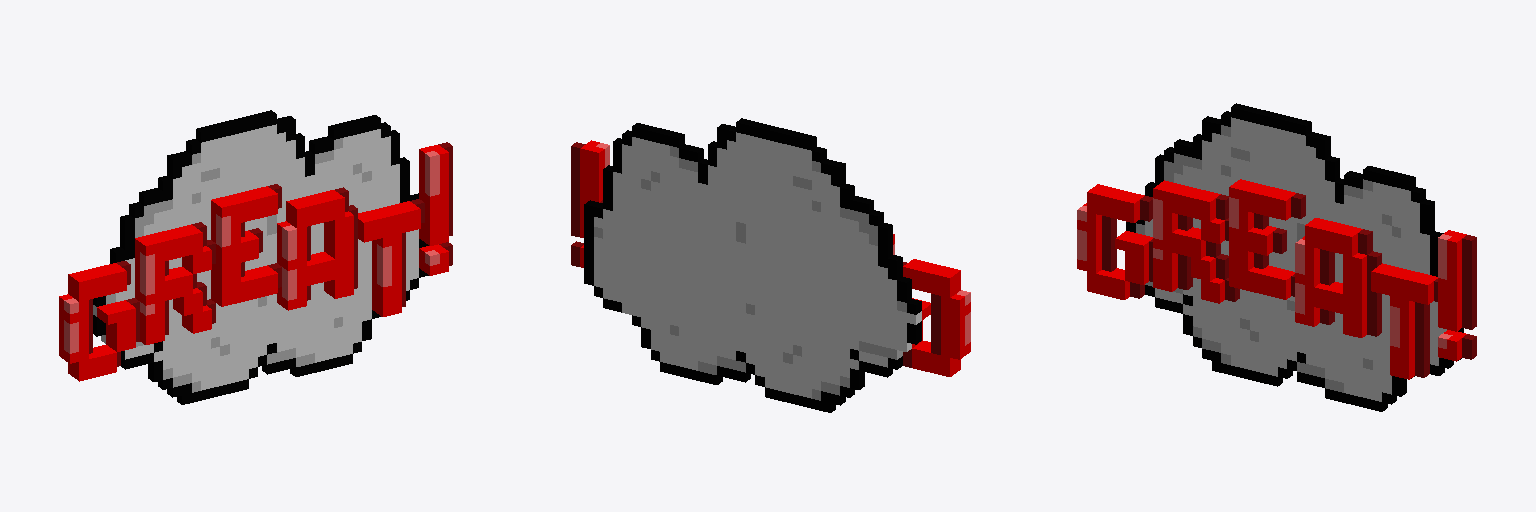
3 renders of one model, left to right at view 1: azimuth 30°, elevation 25°; view 2: azimuth 150°, elevation 25°; view 3: azimuth 330°, elevation 25°, orthographic.
Visible parts, largest first — view 1: object 1; view 2: object 1; view 3: object 1.
Boxes of the visible parts, <box> form: object 1: <box>59,110,452,404</box>; object 1: <box>571,118,970,412</box>; object 1: <box>1077,103,1476,411</box>.
Size of the model in its own units: 4.1 by 2.7 by 0.3.
Materials: 1 (1 with a texture image).